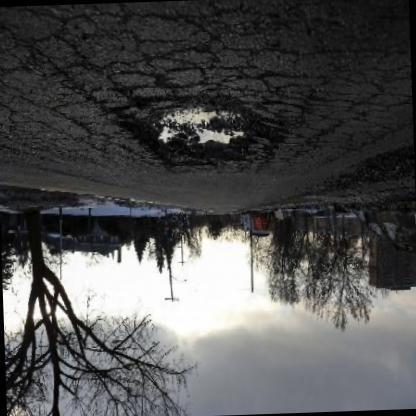pothole: (136, 89, 266, 166)
